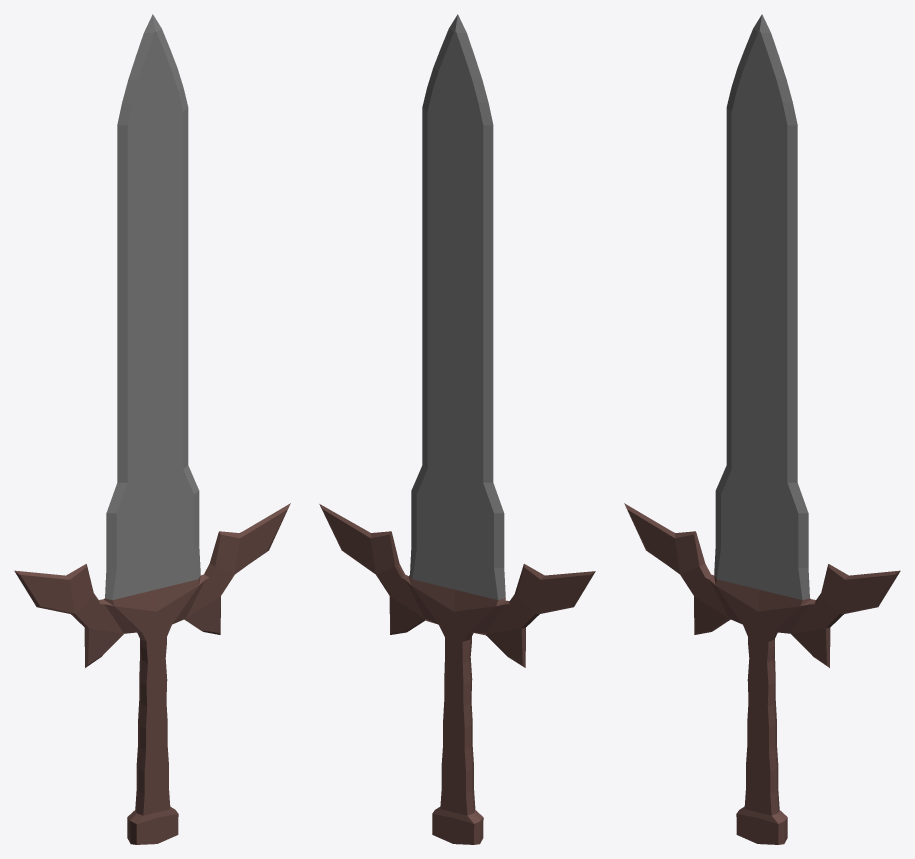
File: Cooler Sword.fbx
The picture shows the model from 3 angles, left to right: view 1: azimuth 30°, elevation 25°; view 2: azimuth 150°, elevation 25°; view 3: azimuth 330°, elevation 25°; orthographic projection.
Parts seen in each view (by area): view 1: Cube; view 2: Cube; view 3: Cube.
Part boxes in pixels (x1=…): Cube: x1=14, y1=14, x2=290, y2=844; Cube: x1=319, y1=14, x2=595, y2=844; Cube: x1=624, y1=14, x2=900, y2=844.
Bounding box in the file's own units: 178 × 510 × 10.41.
